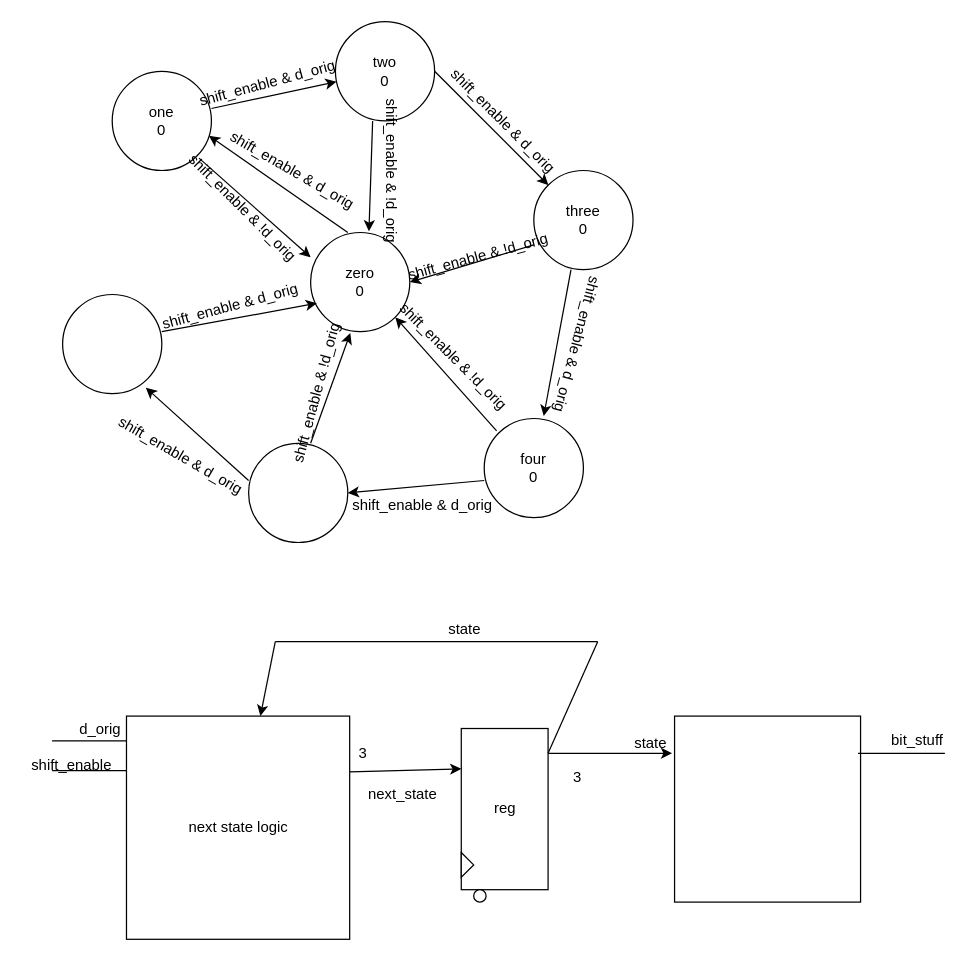
The diagram is 975 pixels wide and 961 high, and some of its shapes have lost their labels. The shapes that lost their labels are listed below. From the top down, each one's centre as x and y in pixels, then its label:
At (x=111, y=343): "six 1".
At (x=297, y=492): "five 0".
At (x=767, y=808): "output logic".
